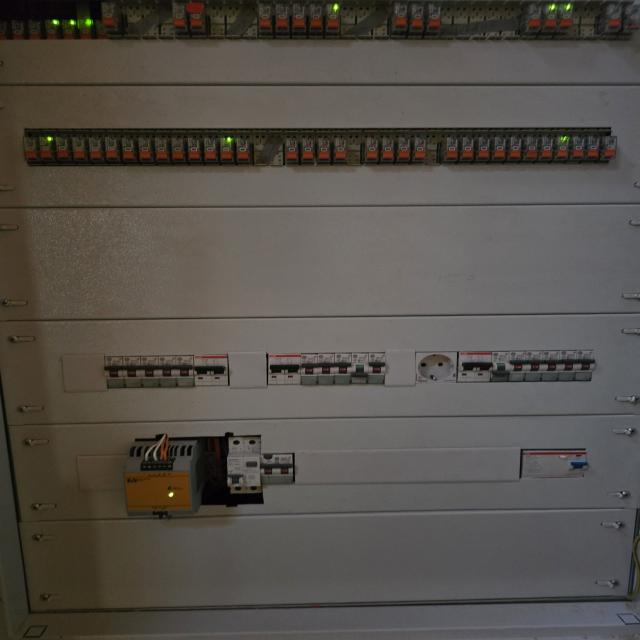FI: (520, 450, 587, 478)
FI_Sicherungskombi: (227, 437, 262, 493)
Leitungsschutzschalter: (574, 350, 596, 381), (523, 351, 544, 382), (105, 357, 125, 389), (490, 351, 510, 382), (541, 351, 561, 382), (559, 350, 579, 381), (140, 356, 159, 388), (176, 355, 195, 387), (123, 357, 142, 388), (159, 356, 178, 387), (350, 353, 369, 384), (457, 352, 476, 383), (317, 353, 335, 385), (267, 354, 285, 385), (367, 353, 385, 384), (509, 351, 527, 382), (335, 353, 352, 385), (475, 352, 493, 382), (194, 355, 211, 386), (211, 355, 228, 386), (301, 354, 318, 385), (277, 453, 294, 484), (284, 354, 301, 384), (260, 454, 277, 484)
Relais: (236, 133, 252, 165), (72, 134, 89, 164), (411, 133, 427, 164), (171, 133, 187, 164), (55, 134, 72, 163), (220, 132, 235, 164), (155, 132, 170, 164), (39, 132, 55, 162), (105, 134, 121, 164), (122, 134, 138, 164), (300, 133, 315, 164), (204, 133, 219, 164), (89, 134, 105, 163), (138, 134, 154, 163), (316, 131, 330, 164), (186, 2, 203, 29), (188, 134, 203, 164), (24, 134, 39, 164), (522, 136, 539, 162), (285, 135, 299, 165), (172, 0, 186, 29), (365, 135, 379, 164), (491, 135, 506, 162), (601, 136, 617, 161), (527, 4, 541, 32), (608, 4, 622, 32), (380, 135, 394, 163), (333, 134, 346, 164), (556, 134, 570, 161), (309, 5, 323, 31), (394, 3, 407, 31), (460, 136, 474, 162), (444, 136, 458, 162), (397, 135, 410, 163), (428, 4, 441, 31), (586, 135, 600, 160), (327, 3, 340, 29), (571, 135, 584, 161), (508, 135, 521, 161), (476, 136, 489, 162), (275, 5, 288, 30), (293, 4, 306, 29), (560, 4, 573, 29), (540, 136, 553, 161), (28, 20, 44, 40), (45, 19, 60, 40), (61, 19, 76, 40), (101, 2, 114, 26), (545, 4, 557, 29), (259, 6, 272, 29), (412, 4, 423, 28), (79, 19, 92, 39), (95, 20, 108, 39), (12, 20, 24, 39), (0, 21, 10, 40)
